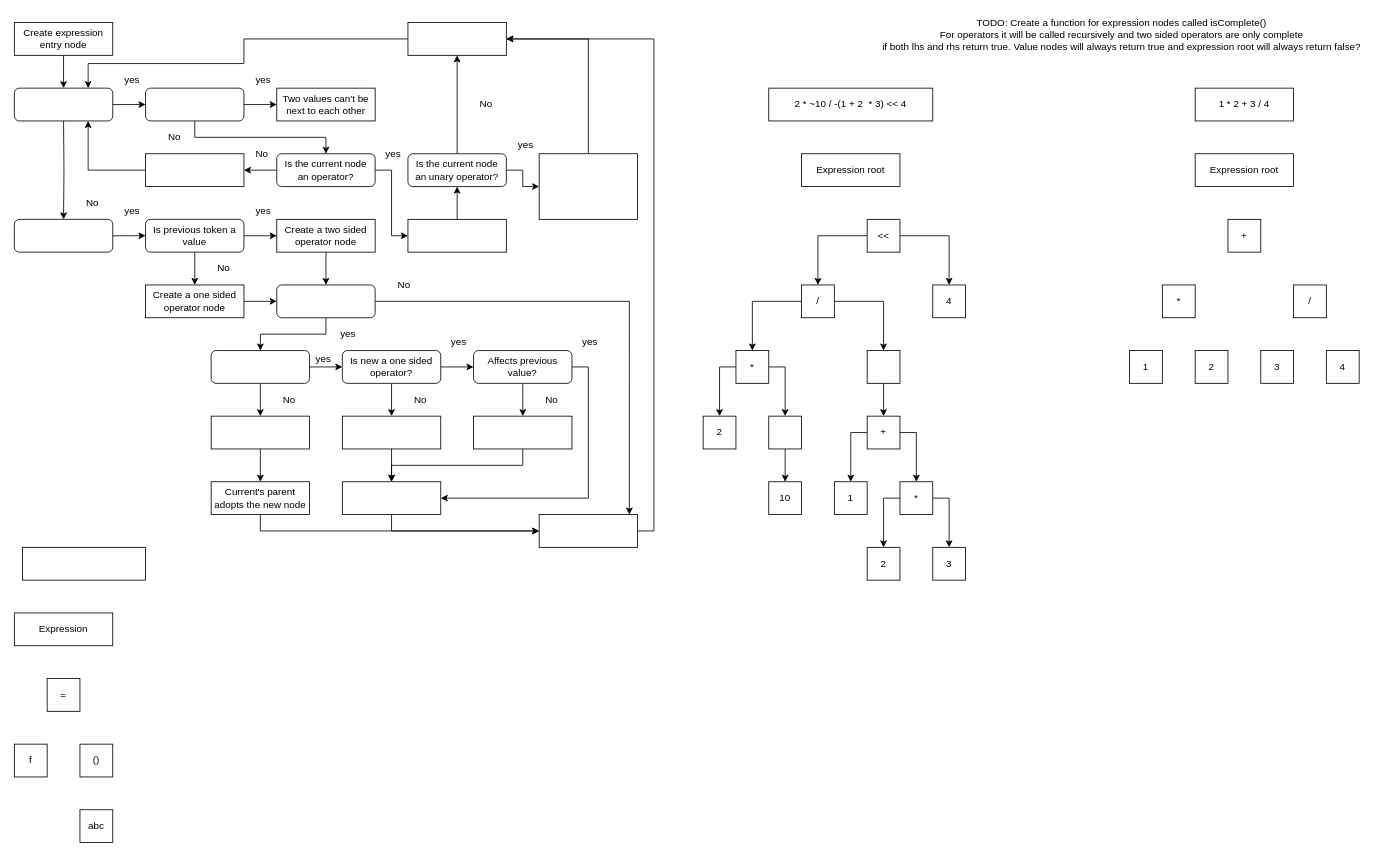
Some shapes in this 1382 by 857 pixel diagram are drawn without their labels. The centre of each missing label's shape, as x and y in pixels:
"Cache the token and move on to the next" goes at (x=194, y=170).
"f = abc()" goes at (x=84, y=563).
"Give the value to the current operator node" goes at (x=456, y=235).
"Is precedence higher than current node" goes at (x=260, y=366).
"Is the current token a value?" goes at (x=63, y=104).
"Is the current token an operator?" goes at (x=63, y=235).
"Is the previous token a value?" goes at (x=194, y=104).
"Is there a current node?" goes at (x=325, y=301).
"move rhs of current to lhs of new" goes at (x=391, y=432).
"Move rhs of current to new node" goes at (x=522, y=432).
"Next token" goes at (x=456, y=38).
"Parent of the current node becomes the current node if parent is present" goes at (x=588, y=186).
"Set new node as the current node" goes at (x=588, y=530).
"Set the current node as lhs of new node" goes at (x=260, y=432).
"Set the new node as rhs of current node" goes at (x=391, y=498).
"u-" goes at (x=883, y=366).
"u~" goes at (x=785, y=432).
